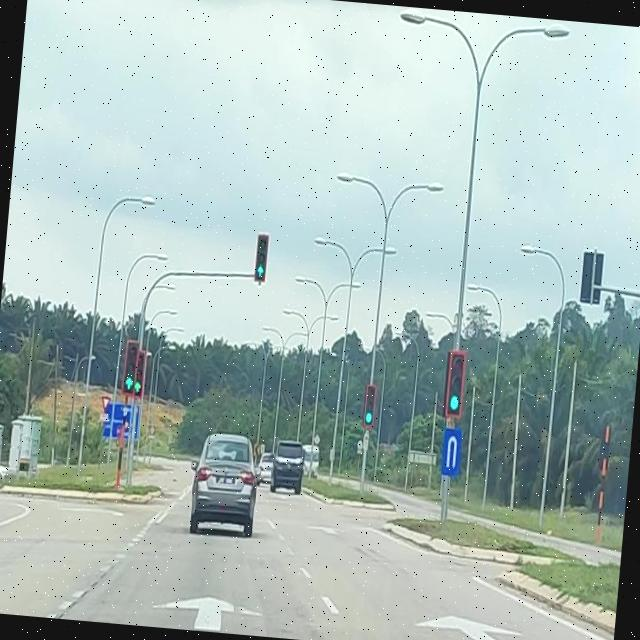green_light: (444, 348, 466, 417), (120, 340, 139, 396), (253, 232, 269, 278), (132, 350, 146, 398), (362, 384, 376, 430)
